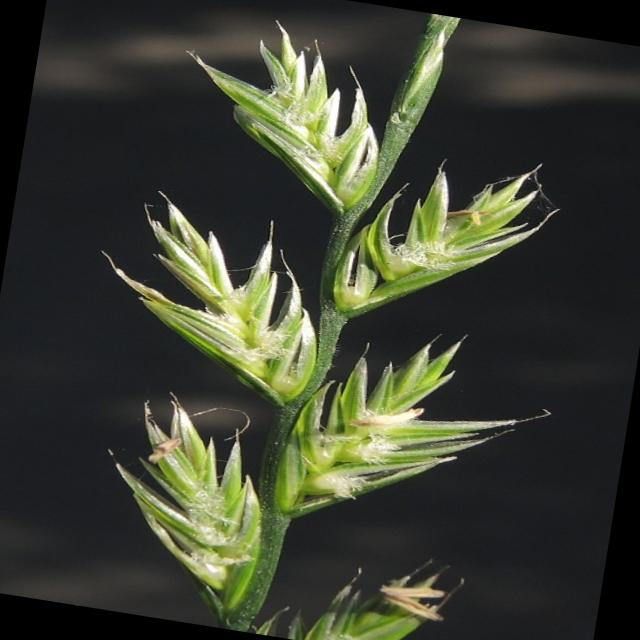Lolium: (43, 0, 611, 640)
